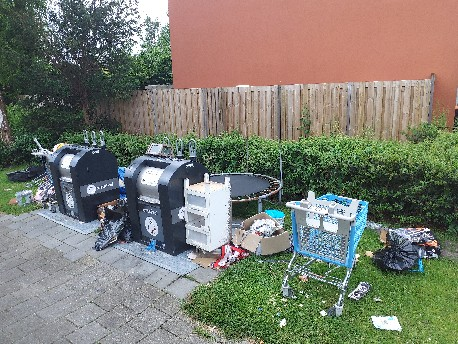Container: (135, 161, 188, 255), (49, 146, 97, 215)
Papier: (241, 218, 290, 259)
Plastic: (288, 190, 360, 281)
Rest: (212, 168, 285, 212), (193, 175, 233, 254), (372, 231, 431, 279), (100, 214, 127, 255), (105, 201, 132, 221)
